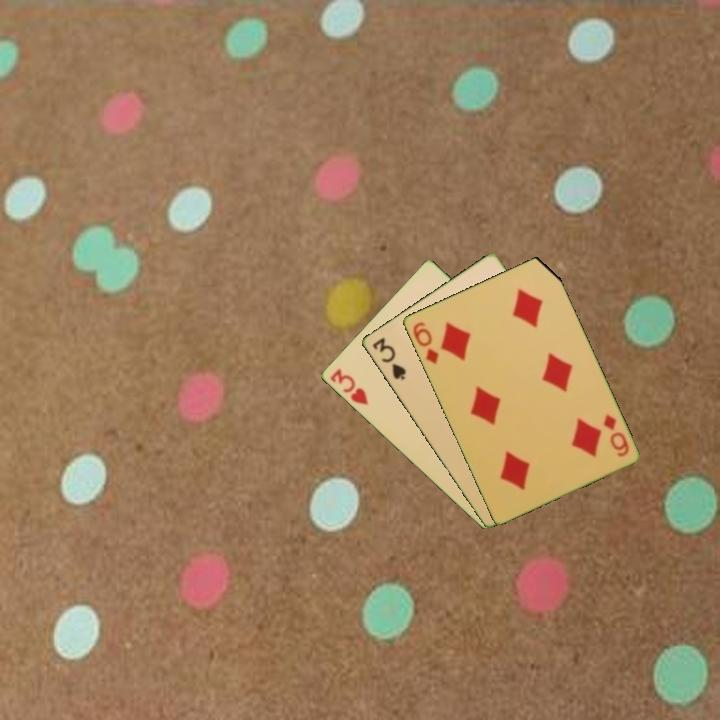3h: (326, 365, 372, 408)
3s: (368, 334, 408, 383)
6d: (599, 411, 632, 460), (409, 318, 441, 367)
